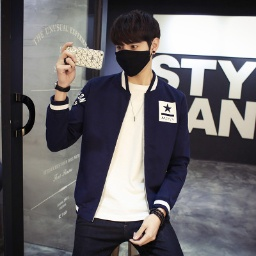face: (110, 9, 161, 74)
